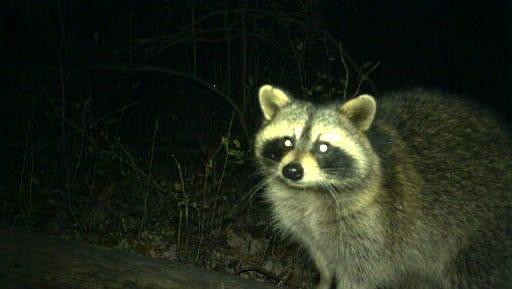raccoon: (252, 84, 512, 289)
